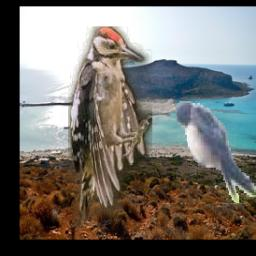Swallow: (176, 102, 256, 205)
Woodpecker: (68, 26, 152, 227)
